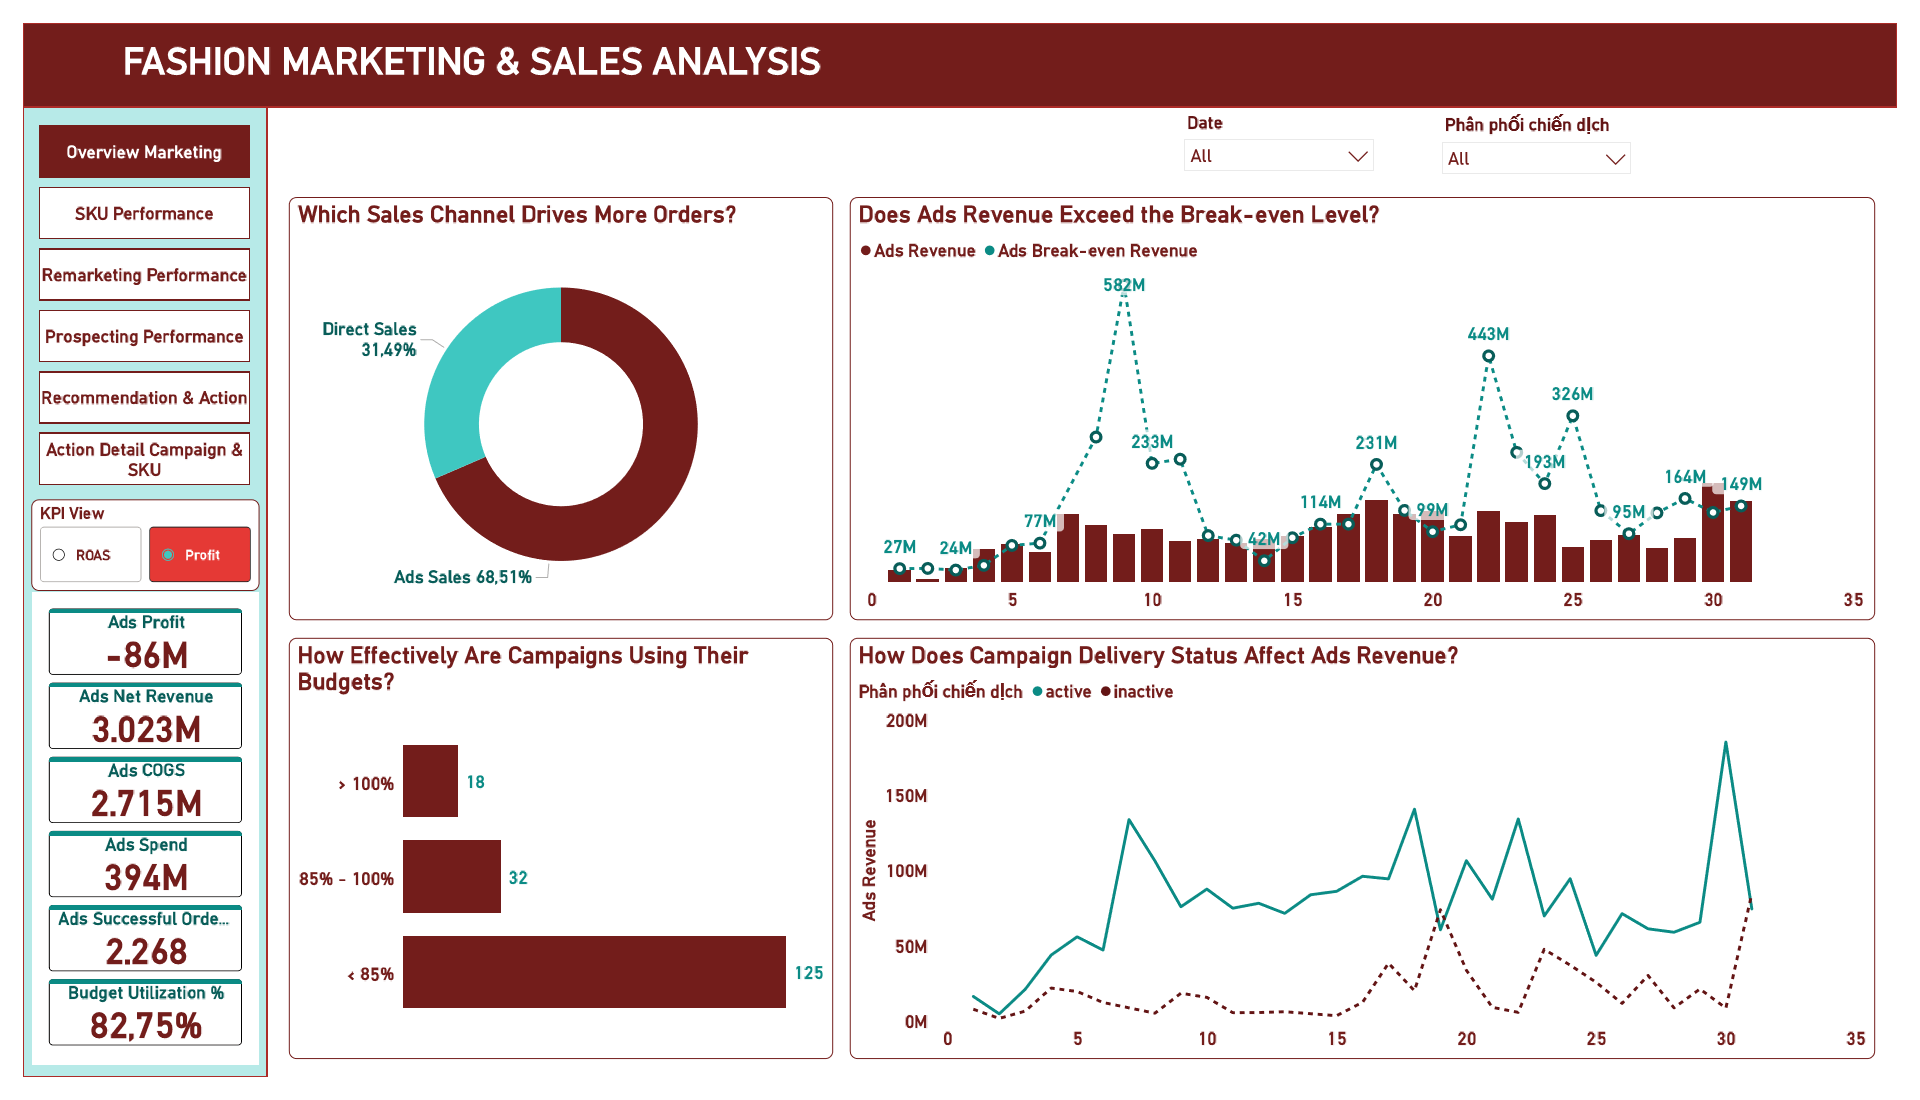

The dashboard page shown, as its layout file describes it:
{"tool":"powerbi","page":{"name":"Overview Marketing","canvas":[1920,1080],"ordinal":0},"visuals":[{"type":"donutChart","title":"Which Sales Channel Drives More Orders?","fields":{"Y":["_Measure.Ads Orders","_Measure.Direct Sales Count"]},"box":[272,178,558,434],"z":0},{"type":"shape","box":[0,85,250,995],"z":1000},{"type":"cardVisual","fields":{"Data":["_Measure._Ads Profit","_Measure.Ads Revenue","_Measure.Ads COGS","_Measure.Ads Spend","_Measure.Ads Successful Orders","_Measure._Budget Utilization %"]},"box":[9.3,582.5,232.2,485.6],"z":2000},{"type":"shape","box":[0,0,1920,85.7],"z":3000},{"type":"lineClusteredColumnComboChart","title":"Does Ads Revenue Exceed the Break-even Level?","fields":{"Category":["dim_date.Tuần trong tháng","dim_date.Ngày trong tháng"],"Y":["_Measure.Ads Revenue"],"Y2":["_Measure.Ads Break-even Revenue"]},"box":[847.4,177.8,1050.6,434.1],"z":4000},{"type":"pageNavigator","box":[15.5,104.8,216.1,370],"z":5000},{"type":"advancedSlicerVisual","fields":{"Values":["Parameter_Page_1_KPI.KPI View"]},"box":[7.8,487.8,234.2,94.4],"z":6000},{"type":"slicer","fields":{"Values":["dim_date.Date"]},"box":[1180,86,214,82],"z":7000},{"type":"slicer","fields":{"Values":["fact_mkt_camp_by_sku_cost.Phân phối chiến dịch"]},"box":[1444,86,214,82],"z":8000},{"type":"textbox","box":[97.1,11.4,798.6,62.9],"z":10000},{"type":"lineChart","title":"How Does Campaign Delivery Status Affect Ads Revenue?","fields":{"Category":["dim_date.Tuần trong tháng","dim_date.Ngày trong tháng"],"Series":["fact_mkt_camp_by_sku_cost.Phân phối chiến dịch"],"Y":["_Measure.Ads Revenue"]},"box":[847.4,630.4,1050.6,431.8],"z":11000},{"type":"clusteredBarChart","title":"How Effectively Are Campaigns Using Their Budgets?","fields":{"Category":["_Level Utilization.Mức Utilization"],"Y":["_Measure._Campaign Count (Utilization)"]},"box":[272.5,630.4,557.6,431.8],"z":12000}]}

Visuals, with their boxes in screenshot pixels (x1, y1, x2, y2), scaled from the page's 1920x1080 canvas onto the 1920x1100 screenshot:
"Which Sales Channel Drives More Orders?" donutChart: x1=272, y1=181, x2=830, y2=623
shape: x1=0, y1=87, x2=250, y2=1099
cardVisual - _Measure._Ads Profit x _Measure.Ads Revenue: x1=9, y1=593, x2=242, y2=1088
shape: x1=0, y1=0, x2=1919, y2=87
"Does Ads Revenue Exceed the Break-even Level?" lineClusteredColumnComboChart: x1=847, y1=181, x2=1898, y2=623
pageNavigator: x1=16, y1=107, x2=232, y2=484
advancedSlicerVisual - Parameter_Page_1_KPI.KPI View: x1=8, y1=497, x2=242, y2=593
slicer - dim_date.Date: x1=1180, y1=88, x2=1394, y2=171
slicer - fact_mkt_camp_by_sku_cost.Phân phối chiến dịch: x1=1444, y1=88, x2=1658, y2=171
textbox: x1=97, y1=12, x2=896, y2=76
"How Does Campaign Delivery Status Affect Ads Revenue?" lineChart: x1=847, y1=642, x2=1898, y2=1082
"How Effectively Are Campaigns Using Their Budgets?" clusteredBarChart: x1=272, y1=642, x2=830, y2=1082
